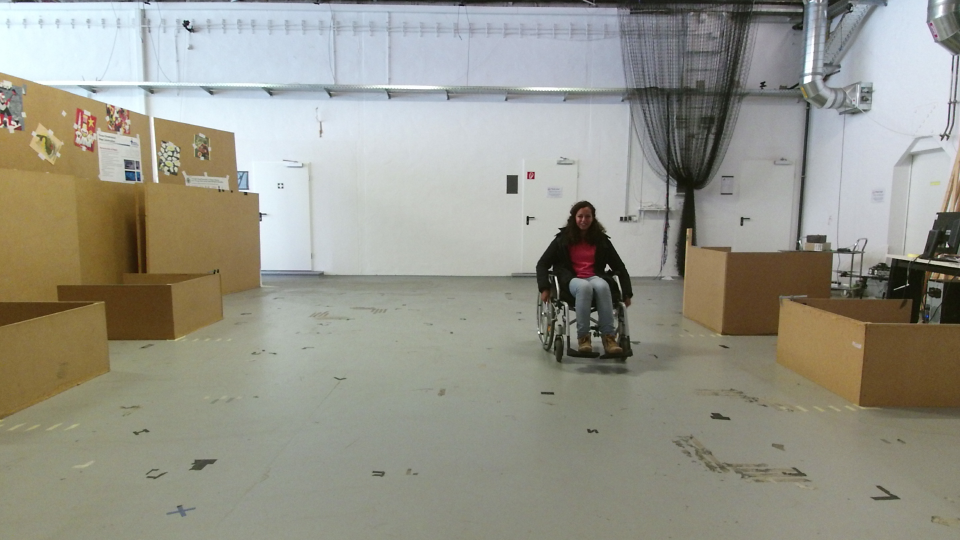wheelchair: (529, 196, 637, 362)
